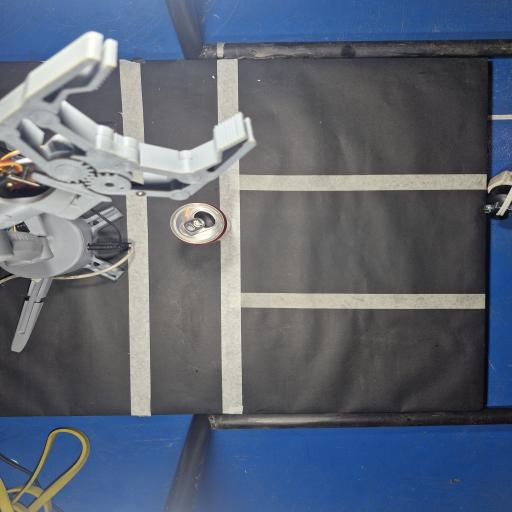lata: (170, 203, 231, 244)
